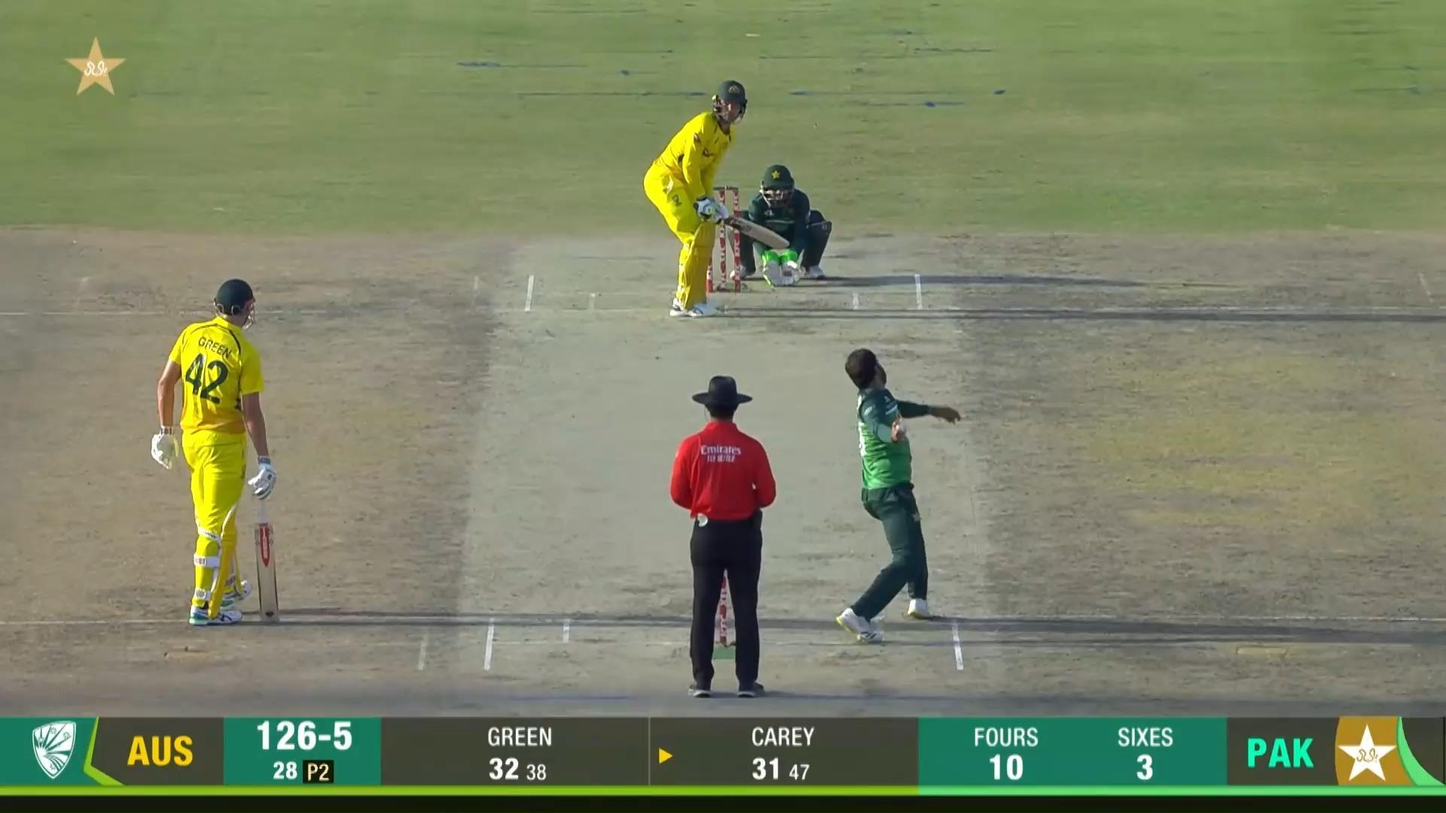BM 1: (643, 80, 792, 320)
BO: (841, 345, 966, 647)
